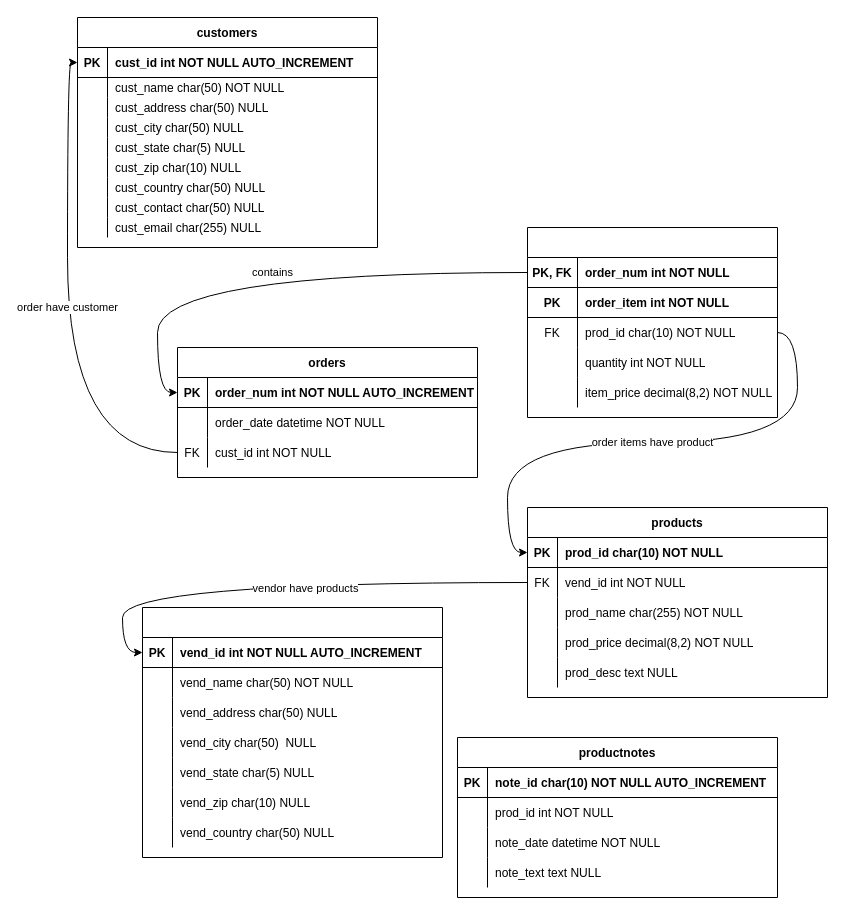
Some shapes in this 845 by 915 pixel diagram are drawn without their labels. The box of each missing label's shape, as (x1, y1, x2, y2) in pixels:
orderitems: (526, 226, 778, 418)
vendors: (142, 606, 442, 858)
